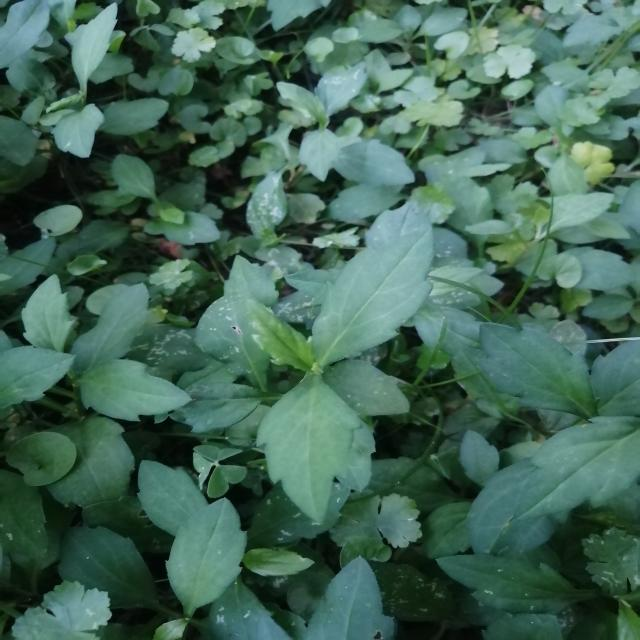Indian aster: (220, 220, 474, 530)
